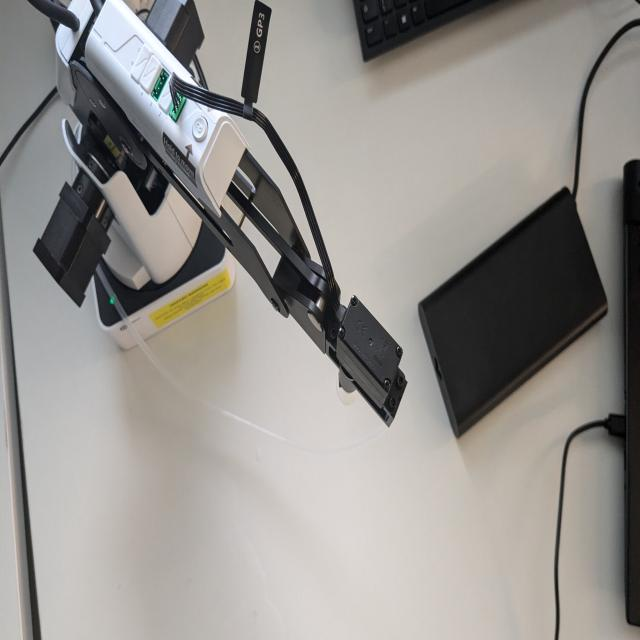Robot-end-effector-HF8z: (333, 284, 411, 428)
